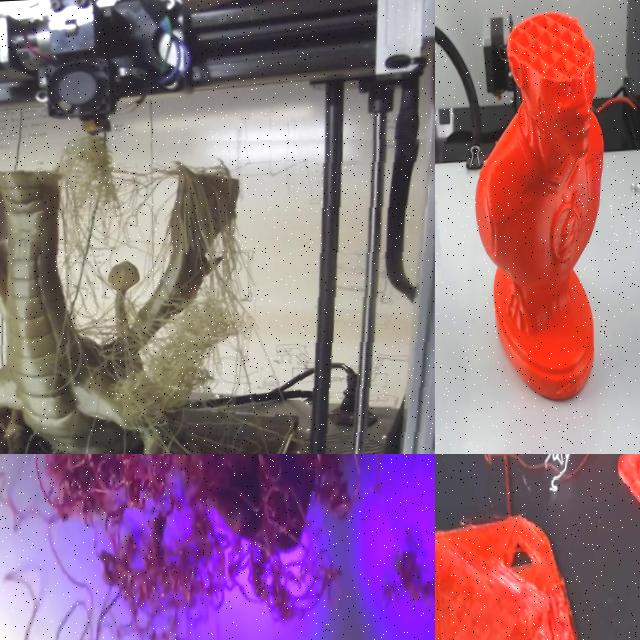spaghetti: (0, 141, 302, 454), (97, 496, 336, 640), (30, 454, 360, 554), (381, 532, 435, 613), (0, 539, 36, 640)
